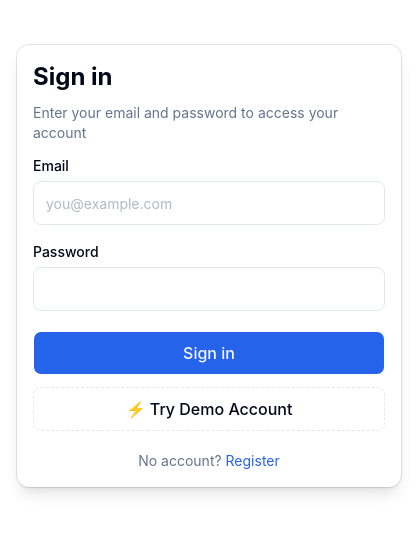
Test case: LoginPage › should show validation errors for empty submission
Click the button "Sign in".
click(209, 353)  # box [33, 331, 385, 375]
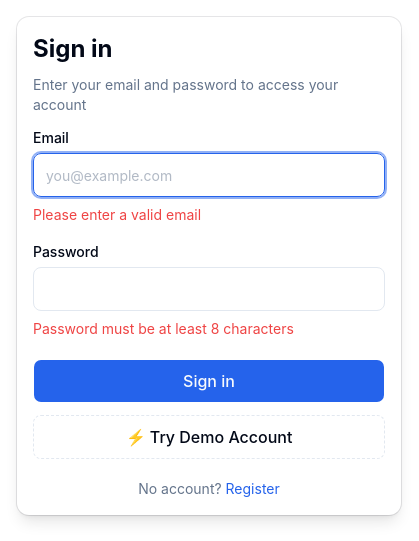
Expected: the text "Please enter a valid email" is shown, [33, 206, 201, 223]
